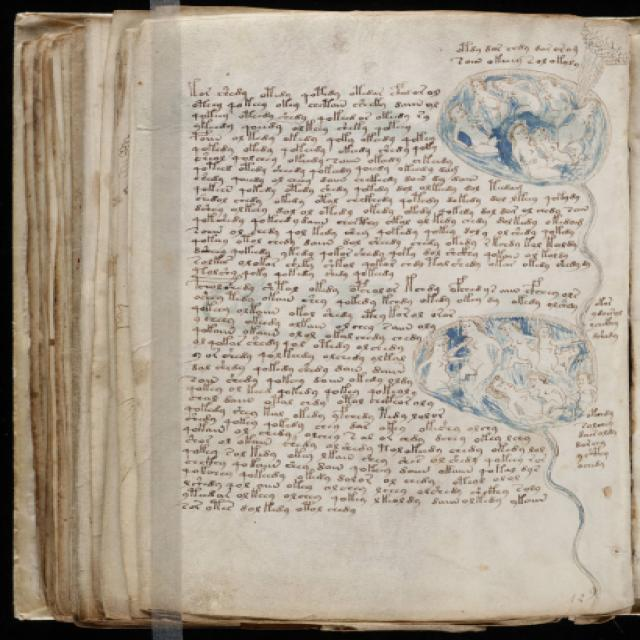people: (408, 307, 596, 429), (438, 63, 614, 187)
person: (454, 312, 507, 395), (481, 376, 558, 429), (550, 94, 602, 165), (506, 122, 560, 182), (444, 100, 501, 156), (412, 333, 460, 395), (535, 323, 583, 378), (522, 369, 571, 422), (493, 318, 542, 370), (492, 74, 549, 116), (466, 76, 513, 123), (532, 74, 579, 121), (574, 365, 599, 417)
